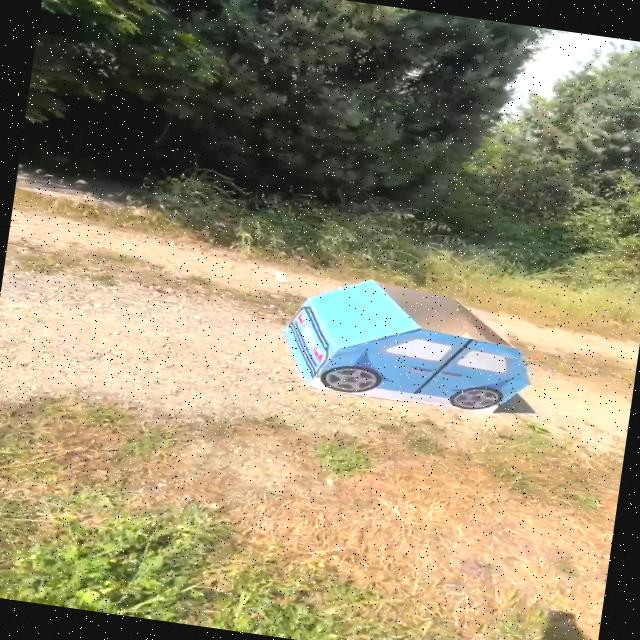blue_car: (243, 254, 559, 442)
